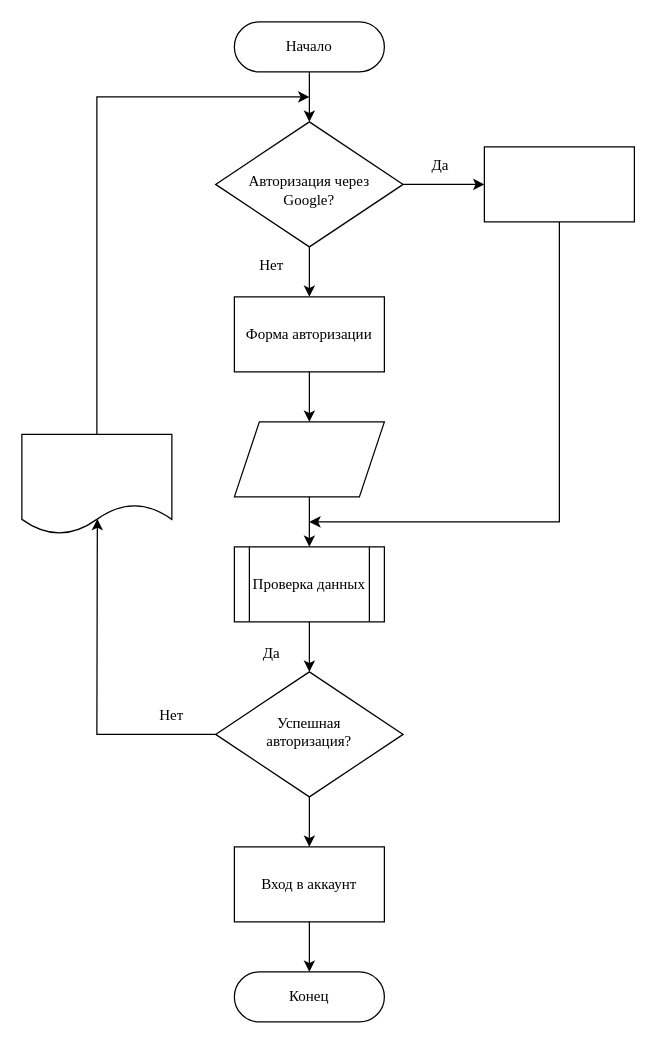
This 656x1044 diagram has some shape labels left out. Here are the shapes that lost their labels. From the top down, the centre of each, then its label:
At (558,184): "Перенаправление на страницу Google".
At (308,459): "Ввод почты и пароля".
At (96,483): "Сообщение о неверных данных".
